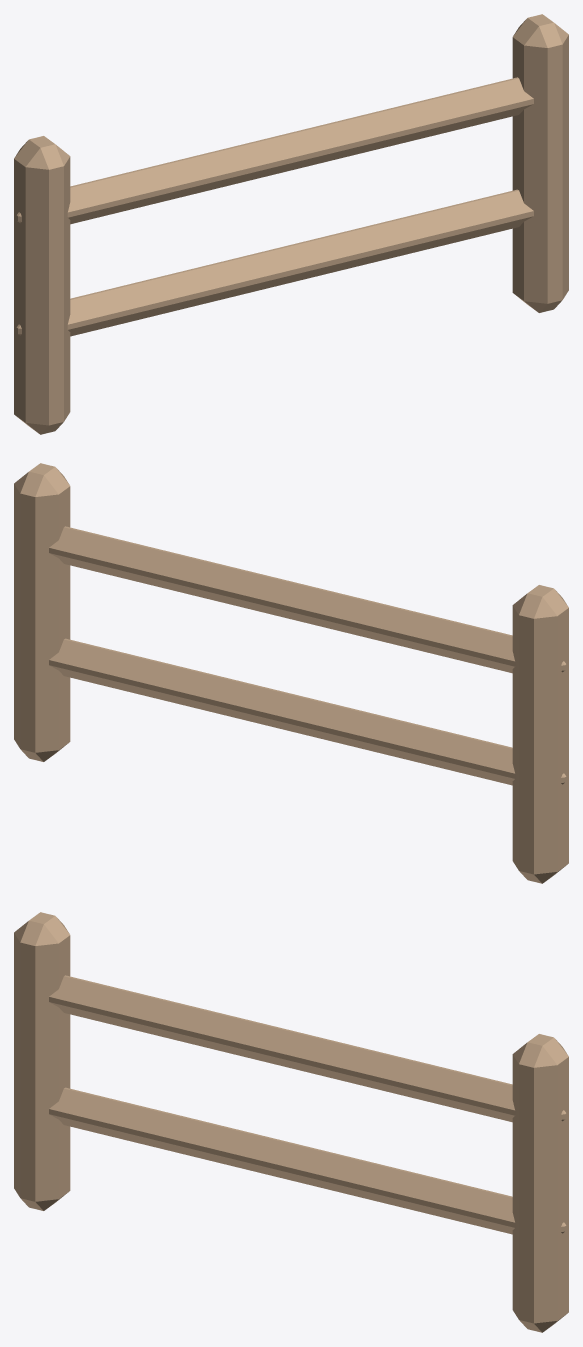
Rendered from fence.glb.
3 views of the same model, one above another, from view 1: azimuth 30°, elevation 25°; view 2: azimuth 150°, elevation 25°; view 3: azimuth 330°, elevation 25° (orthographic).
Visible parts, largest first — view 1: fence; view 2: fence; view 3: fence.
Part boxes in pixels (left/top/right/bottom): fence: left=14, top=14, right=568, bottom=434; fence: left=14, top=463, right=568, bottom=883; fence: left=14, top=912, right=568, bottom=1332.
Bounding box in the file's own units: 2.2 × 1.1 × 0.2.
